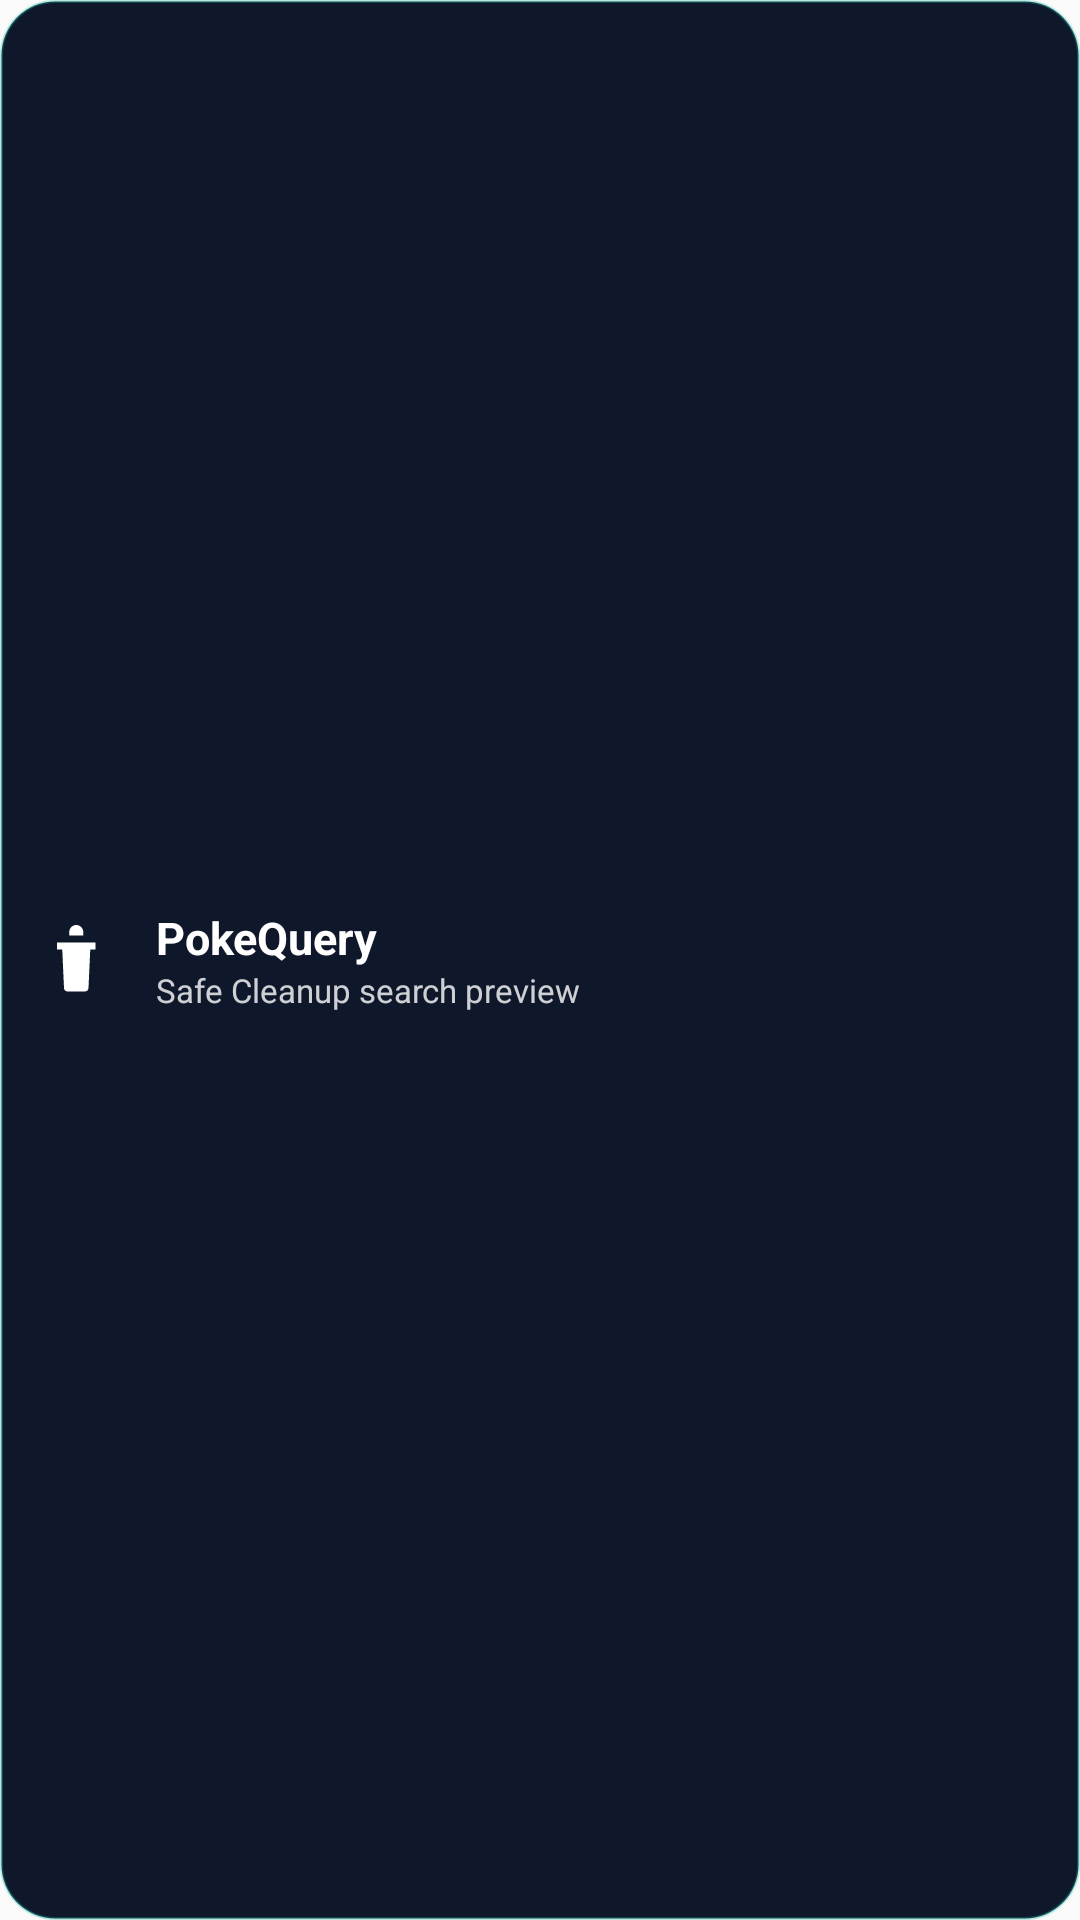

Icons on this 1080px×1920px Android screen, each with the point to tap as point (x, y):
shortcut safe cleanup: point (76, 958)
